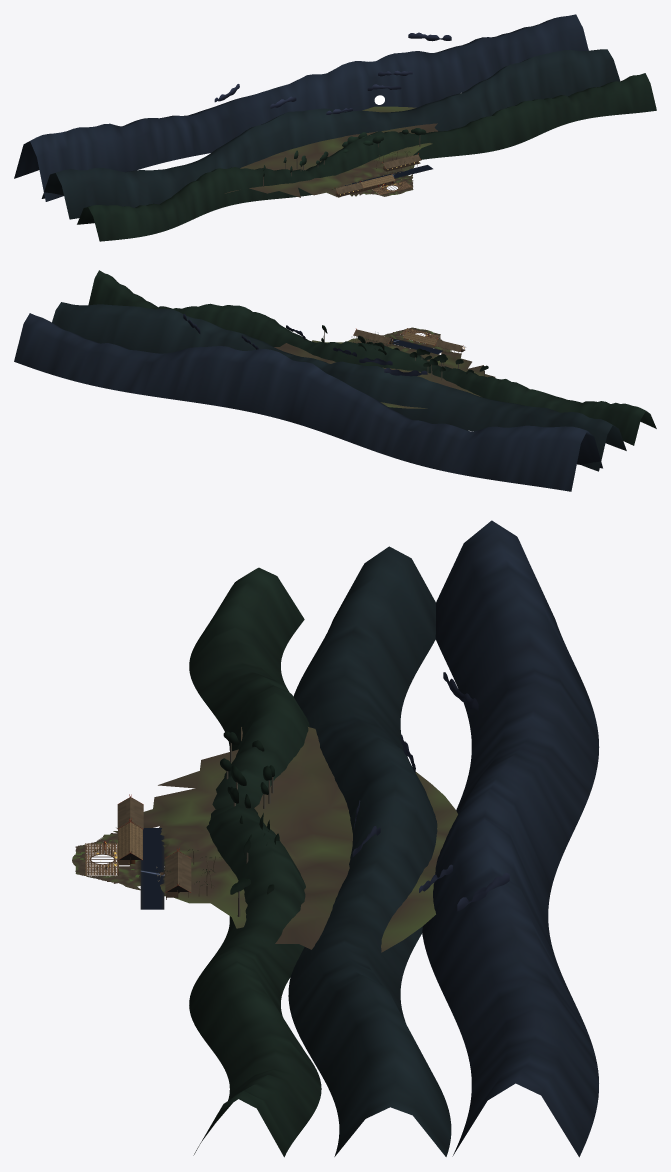
File: arena_sarawak.glb
3 views of the same model, one above another, from view 1: azimuth 30°, elevation 25°; view 2: azimuth 150°, elevation 25°; view 3: azimuth 270°, elevation 25° (orthographic). The views are drawn at different scales.
Parts seen in each view (by area): view 1: EnvFar_MatLeaf_forest, EnvFar_MatGround_earth, EnvFar_MatWood_belian, EnvBattle_MatWood_belian; view 2: EnvFar_MatLeaf_forest, EnvFar_MatGround_earth, EnvFar_MatWood_belian; view 3: EnvFar_MatLeaf_forest, EnvFar_MatGround_earth, EnvFar_MatWood_belian, EnvFar_MatWater_river, EnvBattle_MatWood_belian, EnvBattle_MatGround_earth.
Part boxes in pixels (box(x1,y1,x2,y2)): EnvFar_MatLeaf_forest: box(14, 14, 656, 241); EnvFar_MatGround_earth: box(225, 106, 437, 197); EnvFar_MatWood_belian: box(263, 135, 421, 196); EnvBattle_MatWood_belian: box(359, 174, 412, 195); EnvFar_MatLeaf_forest: box(14, 270, 656, 491); EnvFar_MatGround_earth: box(274, 333, 495, 408); EnvFar_MatWood_belian: box(323, 328, 484, 380); EnvFar_MatLeaf_forest: box(159, 520, 599, 1157); EnvFar_MatGround_earth: box(104, 727, 457, 952); EnvFar_MatWood_belian: box(117, 742, 273, 916); EnvFar_MatWater_river: box(140, 828, 164, 909); EnvBattle_MatWood_belian: box(82, 818, 142, 875); EnvBattle_MatGround_earth: box(72, 835, 140, 884).
Size of the model in its own units: 500 by 53.3 by 207.
